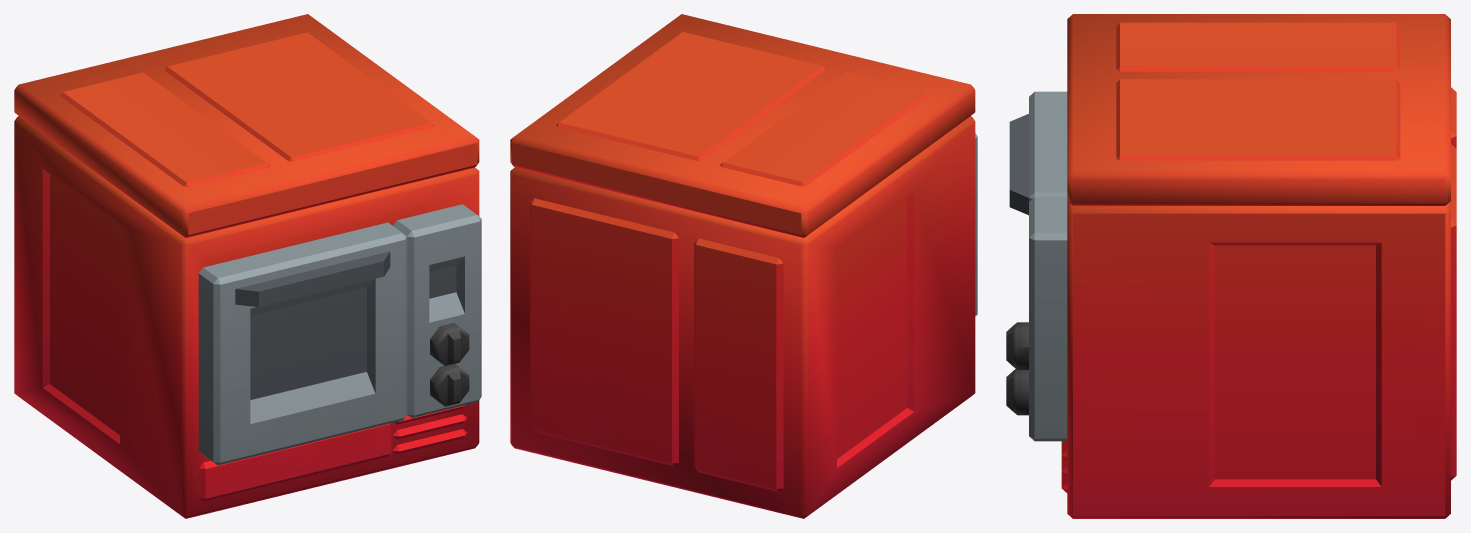
File: oven.glb
The picture shows the model from 3 angles, left to right: view 1: azimuth 30°, elevation 25°; view 2: azimuth 150°, elevation 25°; view 3: azimuth 270°, elevation 25°; orthographic projection. The views are drawn at different scales.
Visible parts, largest first — view 1: Cube.068, oven_door; view 2: Cube.068, oven_door; view 3: Cube.068, oven_door.
Boxes of the visible parts, x1,y1,x2,y2 form: Cube.068: (14, 14, 481, 518); oven_door: (198, 222, 407, 465); Cube.068: (510, 14, 975, 518); oven_door: (975, 133, 977, 315); Cube.068: (1006, 14, 1456, 518); oven_door: (1009, 91, 1067, 215).
Bounding box in the file's own units: 0.8911 × 0.9 × 1.05.
1 material, 1 textured.
